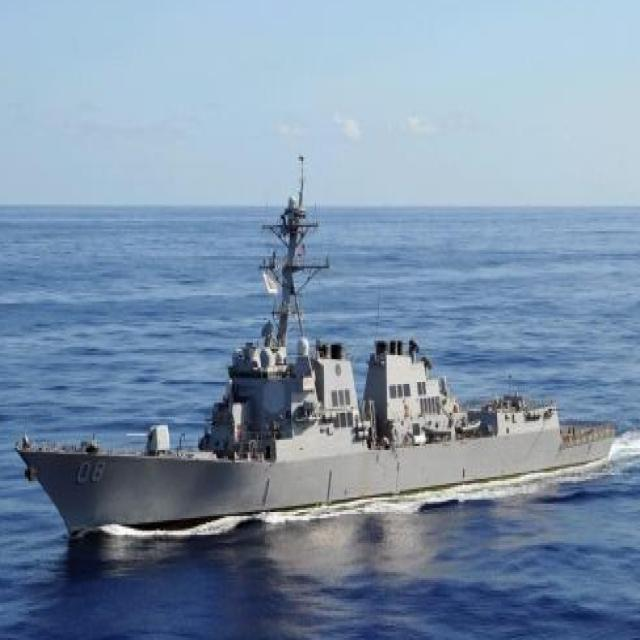navalvessels: (67, 182, 597, 554)
